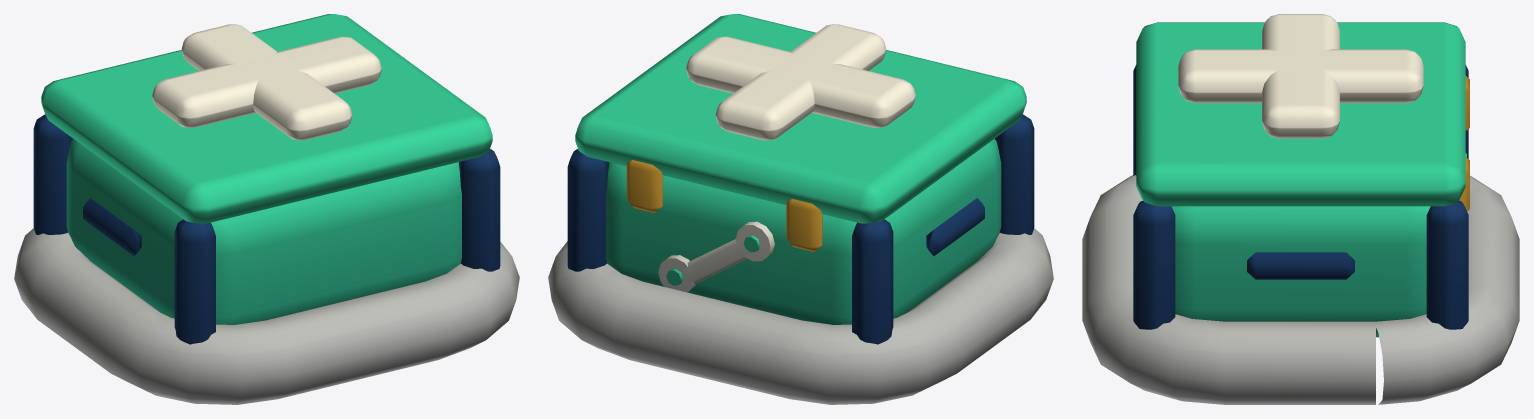
File: pickup-health.glb
3 renders of one model, left to right at view 1: azimuth 30°, elevation 25°; view 2: azimuth 150°, elevation 25°; view 3: azimuth 270°, elevation 25°, orthographic. The views are drawn at different scales.
Visible parts, largest first — view 1: pickup-health Relief mint, pickup-health Warm white, pickup-health Kestrel navy; view 2: pickup-health Relief mint, pickup-health Warm white, pickup-health Kestrel navy, pickup-health Brass; view 3: pickup-health Relief mint, pickup-health Warm white, pickup-health Kestrel navy, pickup-health Brass.
Boxes of the visible parts, bbox=[...] form: pickup-health Relief mint: bbox=[41, 14, 492, 324]; pickup-health Warm white: bbox=[14, 24, 519, 404]; pickup-health Kestrel navy: bbox=[33, 114, 500, 344]; pickup-health Relief mint: bbox=[575, 14, 1026, 324]; pickup-health Warm white: bbox=[548, 24, 1053, 404]; pickup-health Kestrel navy: bbox=[567, 114, 1034, 344]; pickup-health Brass: bbox=[626, 160, 822, 251]; pickup-health Relief mint: bbox=[1136, 22, 1466, 337]; pickup-health Warm white: bbox=[1082, 14, 1519, 404]; pickup-health Kestrel navy: bbox=[1133, 65, 1468, 329]; pickup-health Brass: bbox=[1459, 76, 1469, 211].
Size of the model in its own units: 1.6 by 0.9431 by 1.46.
4 materials, 4 textured.
